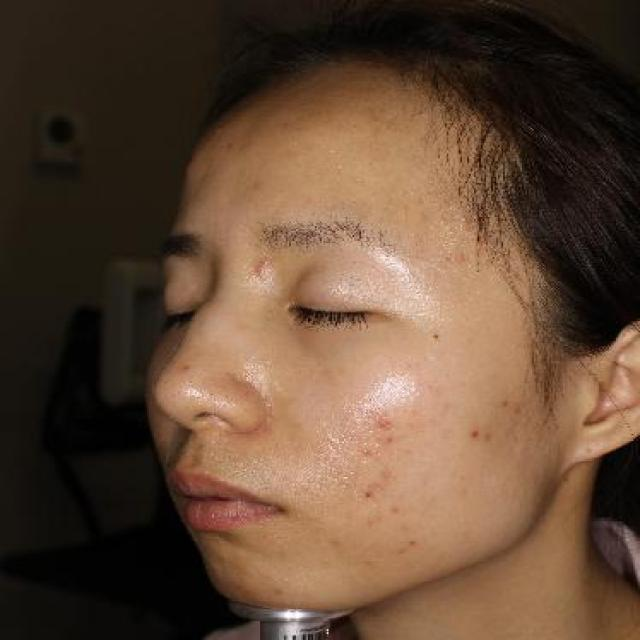blackheads: (358, 486, 380, 502)
dark spot: (383, 432, 402, 451), (467, 420, 481, 445), (359, 443, 373, 463)
nodules: (245, 249, 277, 283)
papules: (376, 416, 392, 430)
